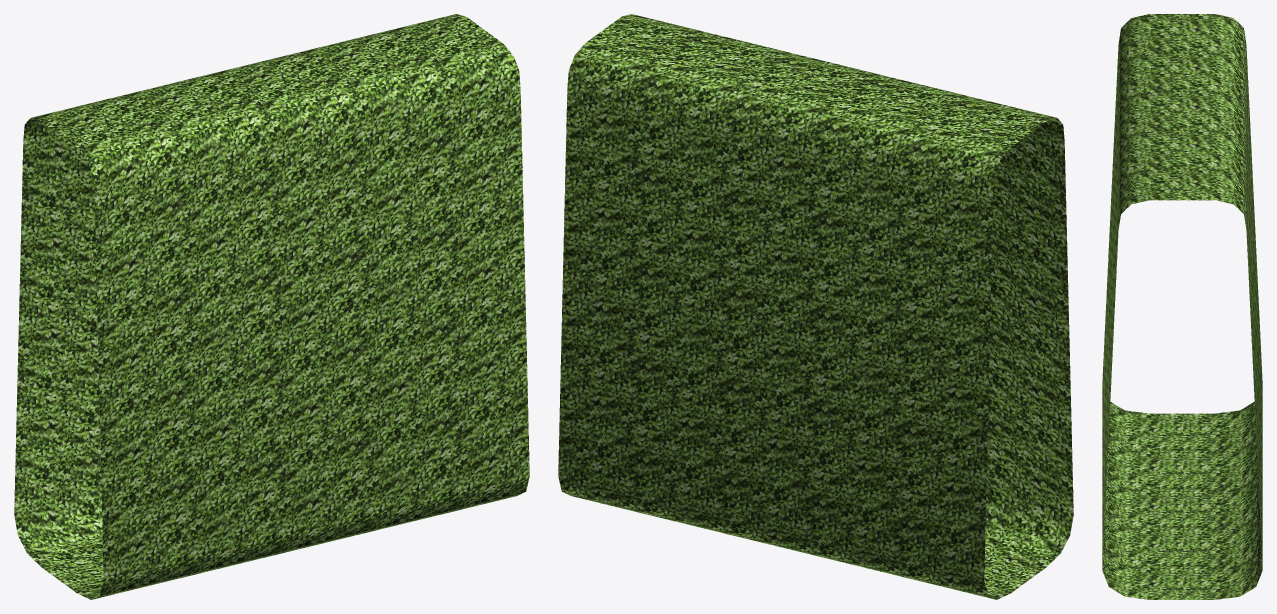
File: privet_hedge01_high.DAE
3 renders of one model, left to right at view 1: azimuth 30°, elevation 25°; view 2: azimuth 150°, elevation 25°; view 3: azimuth 270°, elevation 25°, orthographic. The views are drawn at different scales.
Visible parts, largest first — view 1: Box002; view 2: Box002; view 3: Box002.
Boxes of the visible parts, x1,y1,x2,y2 form: Box002: [14, 14, 529, 599]; Box002: [558, 14, 1073, 599]; Box002: [1102, 14, 1262, 599].
Size of the model in its own units: 4 by 1.45 by 4.
